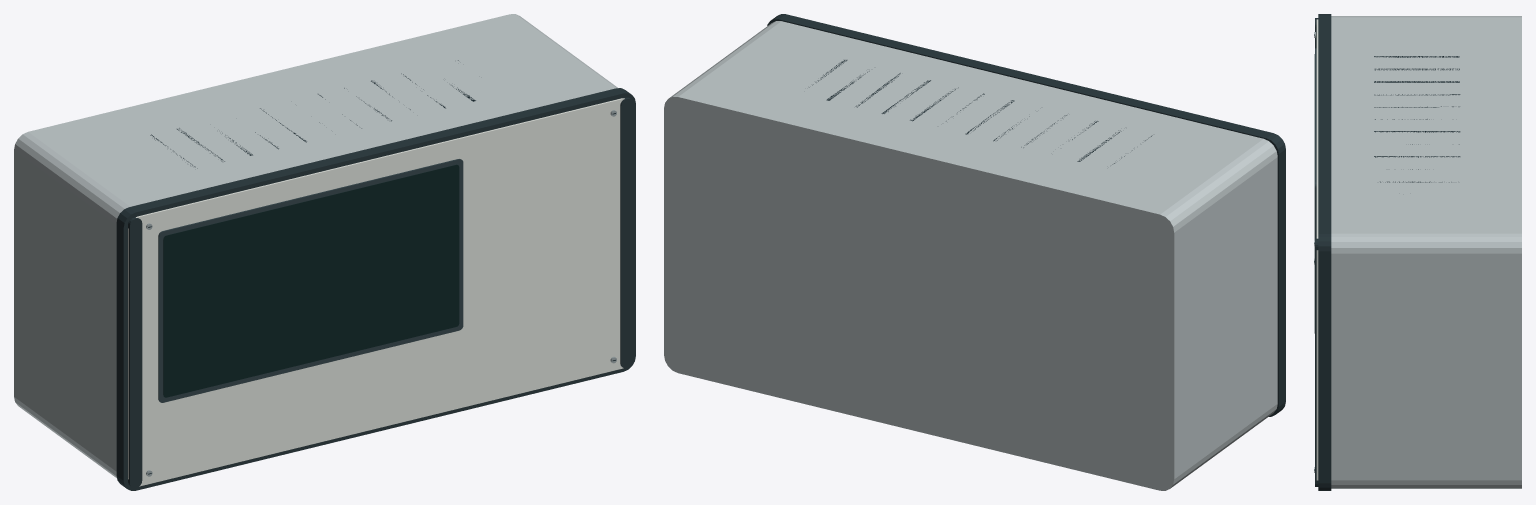
The model's file is scope.obj.
3 renders of one model, left to right at view 1: azimuth 30°, elevation 25°; view 2: azimuth 150°, elevation 25°; view 3: azimuth 270°, elevation 25°, orthographic. The views are drawn at different scales.
Size of the model in its own units: 1.46 by 0.781 by 0.5565.
